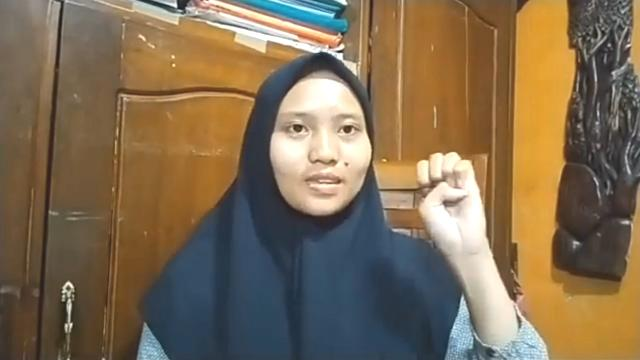E: (417, 152, 489, 250)
